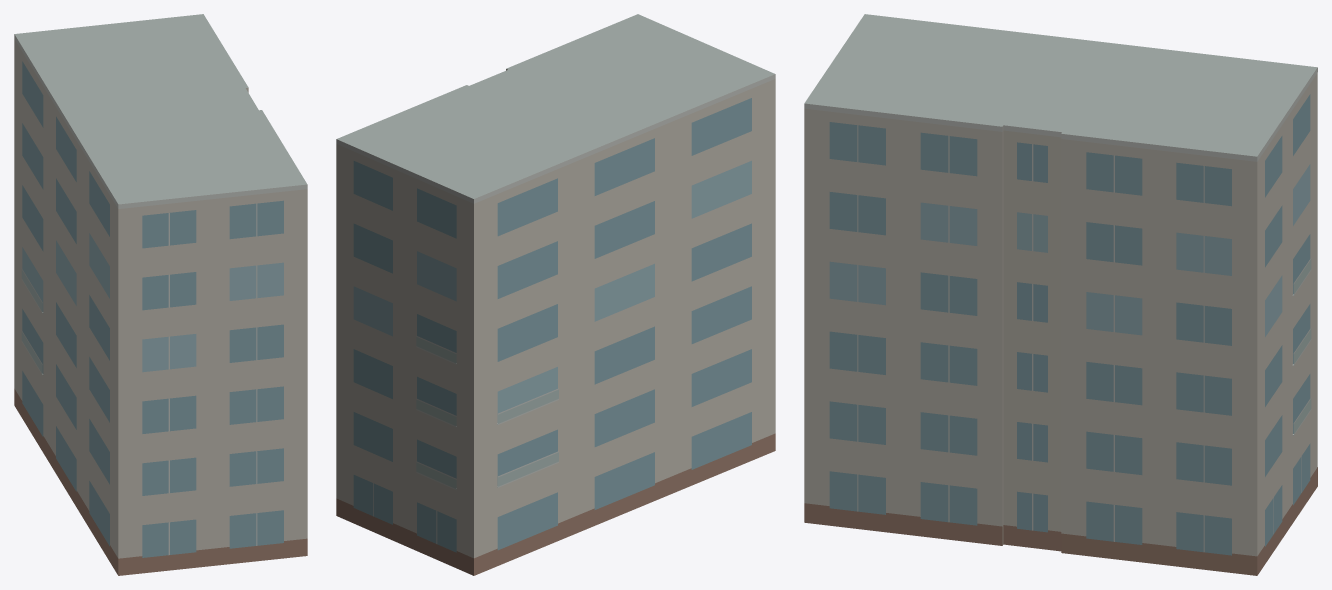
Rendered from survey-upis-32762994.glb.
3 renders of one model, left to right at view 1: azimuth 30°, elevation 25°; view 2: azimuth 150°, elevation 25°; view 3: azimuth 270°, elevation 25°, orthographic. The views are drawn at different scales.
Visible parts, largest first — view 1: survey-upis-32762994.tmp; view 2: survey-upis-32762994.tmp; view 3: survey-upis-32762994.tmp.
Boxes of the visible parts, x1,y1,x2,y2 form: survey-upis-32762994.tmp: [14, 14, 307, 575]; survey-upis-32762994.tmp: [336, 14, 775, 575]; survey-upis-32762994.tmp: [804, 14, 1317, 575].
Bounding box in the file's own units: 14.29 × 19.56 × 21.72.
